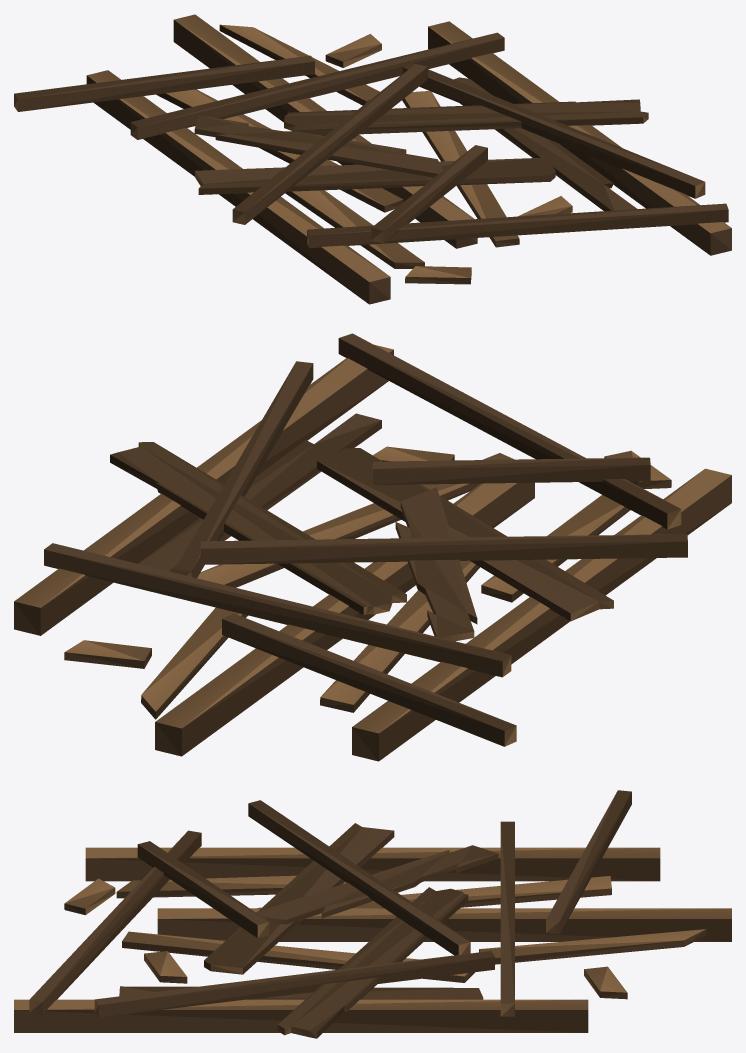
Rendered from Wood_2.fbx.
3 renders of one model, top to bottom at view 1: azimuth 30°, elevation 25°; view 2: azimuth 150°, elevation 25°; view 3: azimuth 270°, elevation 25°, orthographic. The views are drawn at different scales.
Parts seen in each view (by area): view 1: polySurface1089; view 2: polySurface1089; view 3: polySurface1089.
Part boxes in pixels (left/top/right/bottom): polySurface1089: left=14, top=14, right=731, bottom=304; polySurface1089: left=14, top=333, right=731, bottom=761; polySurface1089: left=14, top=790, right=731, bottom=1038.
Size of the model in its own units: 774 by 70.93 by 1000.
1 material, 1 textured.
